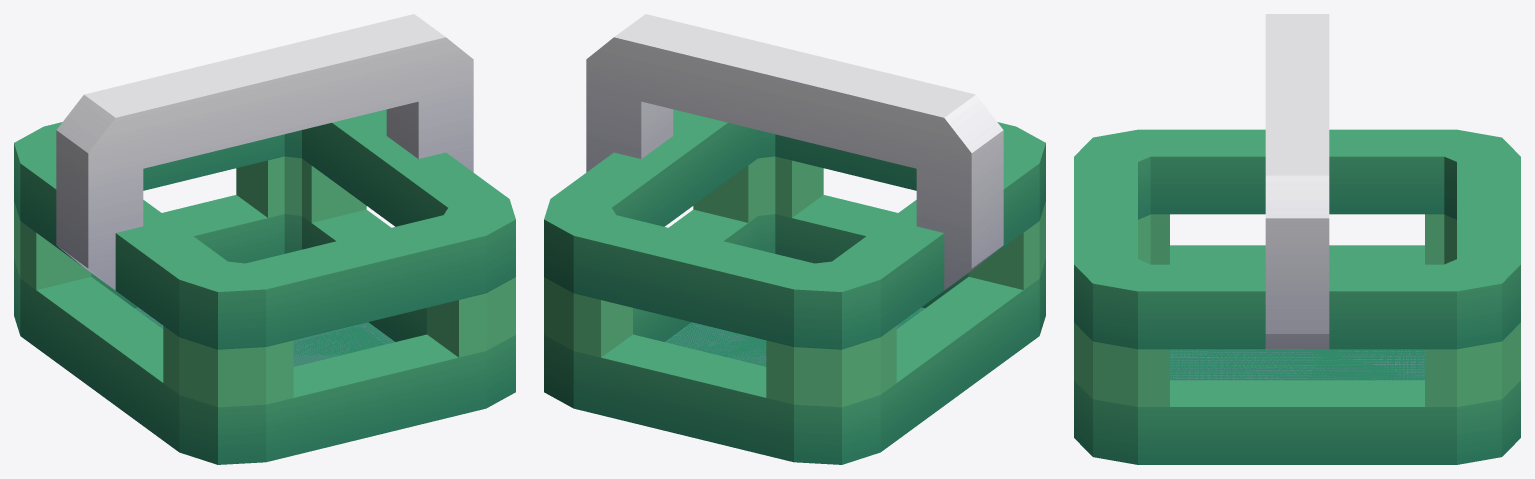
The model's file is ShoppingBasket.obj.
The picture shows the model from 3 angles, left to right: view 1: azimuth 30°, elevation 25°; view 2: azimuth 150°, elevation 25°; view 3: azimuth 270°, elevation 25°; orthographic projection.
Visible parts, largest first — view 1: shopping_basket; view 2: shopping_basket; view 3: shopping_basket.
Part boxes in pixels (box(x1,y1,x2,y2)): shopping_basket: box(14, 14, 515, 464); shopping_basket: box(544, 14, 1045, 464); shopping_basket: box(1074, 14, 1520, 464).
Size of the model in its own units: 0.455 by 0.325 by 0.455.
1 material, 1 textured.
